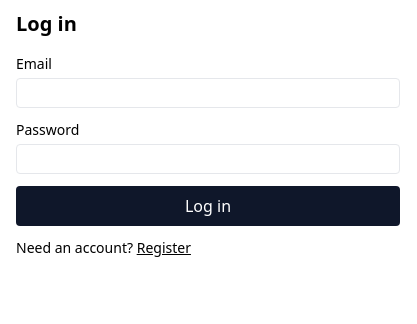
Test: LoginPage — failed-login messaging (Step 7A remediation, finding M-3) › still uses the generic ApiErrorAlert copy for a non-401 error (e.g. account-lockout 429)
Type "someone@example.com" into the field labelled "Email" at (208, 93), box [16,78,400,108]
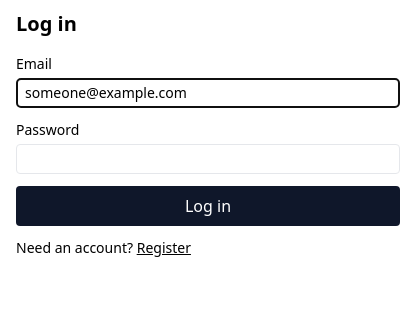
Type "wrong-password" into the password field labelled "Password" at (208, 159), box [16,144,400,174]
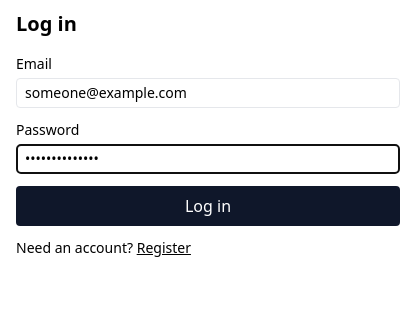
Click the button "Log in" at (208, 206), box [16,186,400,226]
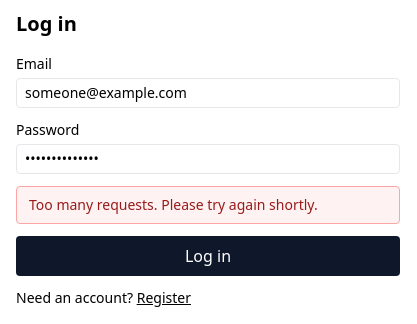
Check: the message shows "Too many requests", box [29,195,318,214]
